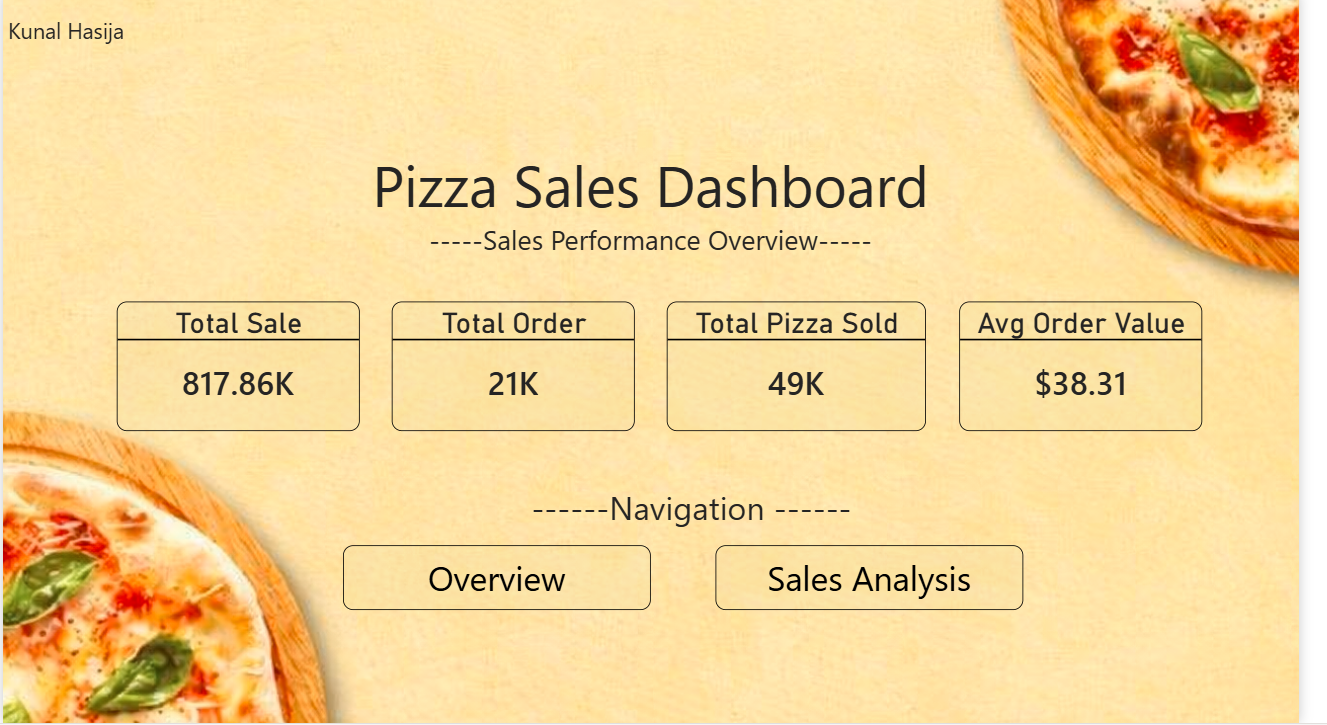

What the dashboard file says about the page in this screenshot:
{"tool":"powerbi","page":{"name":"HomePage","canvas":[1280,720],"ordinal":0},"visuals":[{"type":"textbox","box":[0,16,128,48],"z":0},{"type":"textbox","box":[208,144,864,144],"z":1000},{"type":"cardVisual","title":"Total Sale","fields":{"Data":["order details.Total_sale"]},"box":[112,304,240,128],"z":2000},{"type":"cardVisual","title":"Total Order","fields":{"Data":["orders.Total_order"]},"box":[384,304,240,128],"z":3000},{"type":"cardVisual","title":"Total Pizza Sold","fields":{"Data":["order details.Total Pizza Sold"]},"box":[656,304,256,128],"z":4000},{"type":"cardVisual","title":"Avg Order Value","fields":{"Data":["orders.Avg Order Value"]},"box":[944,304,240,128],"z":5000},{"type":"actionButton","box":[336,544,304,64],"z":6000},{"type":"actionButton","box":[704,544,304,64],"z":7000},{"type":"textbox","box":[400,480,560,64],"z":8000}]}

Visuals, with their boxes in screenshot pixels (x1, y1, x2, y2), scaled from the page's 1280x720 canvas onto the 1327x725 screenshot:
textbox: x1=0, y1=16, x2=133, y2=64
textbox: x1=216, y1=145, x2=1111, y2=290
"Total Sale" cardVisual: x1=116, y1=306, x2=365, y2=435
"Total Order" cardVisual: x1=398, y1=306, x2=647, y2=435
"Total Pizza Sold" cardVisual: x1=680, y1=306, x2=945, y2=435
"Avg Order Value" cardVisual: x1=979, y1=306, x2=1227, y2=435
actionButton: x1=348, y1=548, x2=664, y2=612
actionButton: x1=730, y1=548, x2=1045, y2=612
textbox: x1=415, y1=483, x2=995, y2=548
